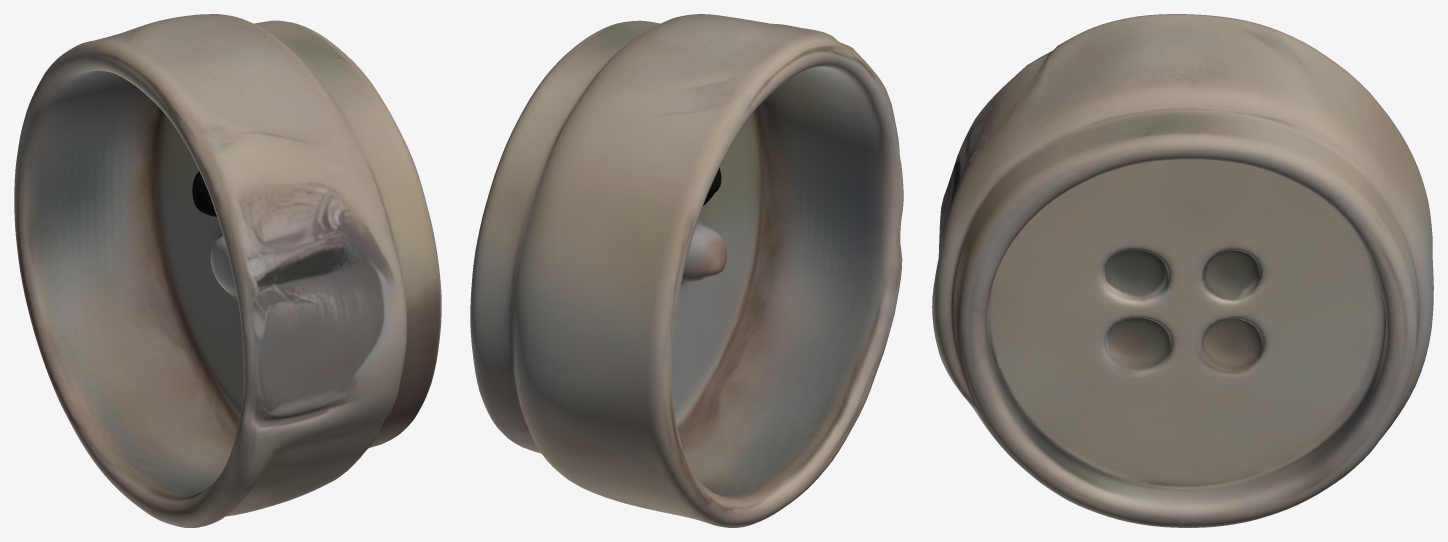
3 views of the same model, side by side, from view 1: azimuth 30°, elevation 25°; view 2: azimuth 150°, elevation 25°; view 3: azimuth 270°, elevation 25° (orthographic).
Parts seen in each view (by area): view 1: tripo_node_9306abb3-2825-4fee-a870-3ad54f197ac8; view 2: tripo_node_9306abb3-2825-4fee-a870-3ad54f197ac8; view 3: tripo_node_9306abb3-2825-4fee-a870-3ad54f197ac8.
Boxes of the visible parts, x1,y1,x2,y2 form: tripo_node_9306abb3-2825-4fee-a870-3ad54f197ac8: (14,14,441,527); tripo_node_9306abb3-2825-4fee-a870-3ad54f197ac8: (470,14,903,527); tripo_node_9306abb3-2825-4fee-a870-3ad54f197ac8: (932,14,1433,527).
Size of the model in its own units: 0.4579 by 0.9489 by 0.9484.
1 material, 1 textured.
